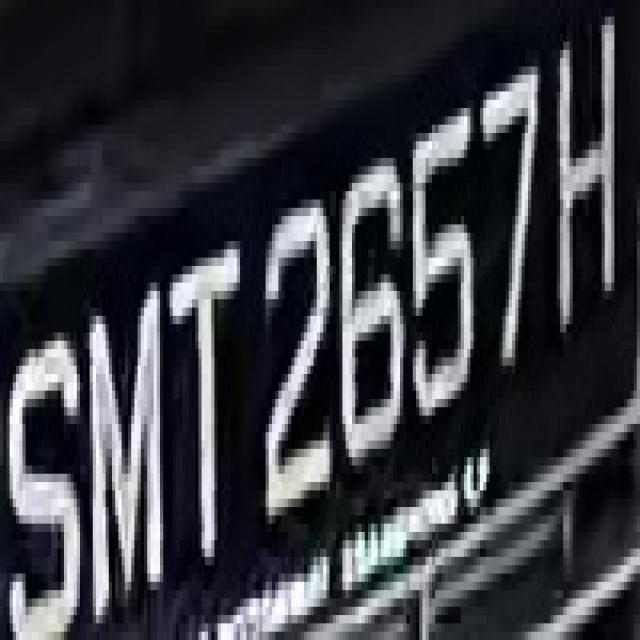2: (246, 199, 340, 532)
5: (413, 100, 630, 357)
6: (333, 125, 406, 507)
7: (470, 50, 538, 399)
H: (550, 0, 554, 25)
M: (83, 266, 163, 632)
S: (7, 299, 86, 640)
T: (160, 232, 246, 574)
